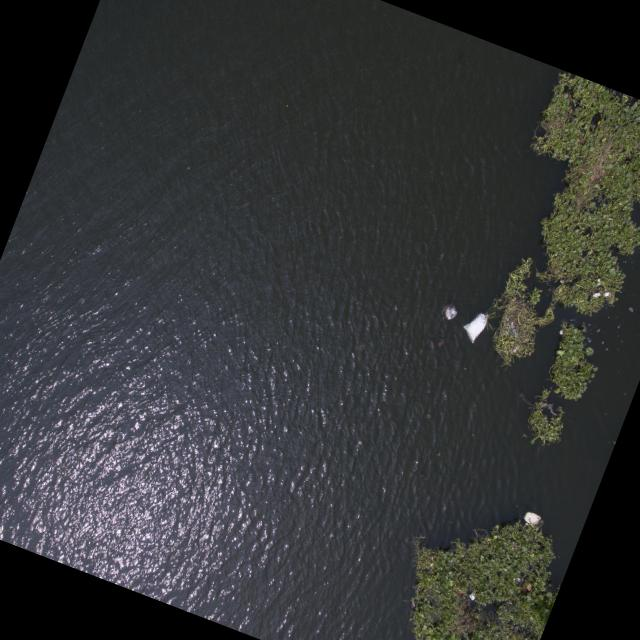Plastic: (458, 307, 492, 348), (439, 298, 463, 328), (520, 508, 544, 532)
